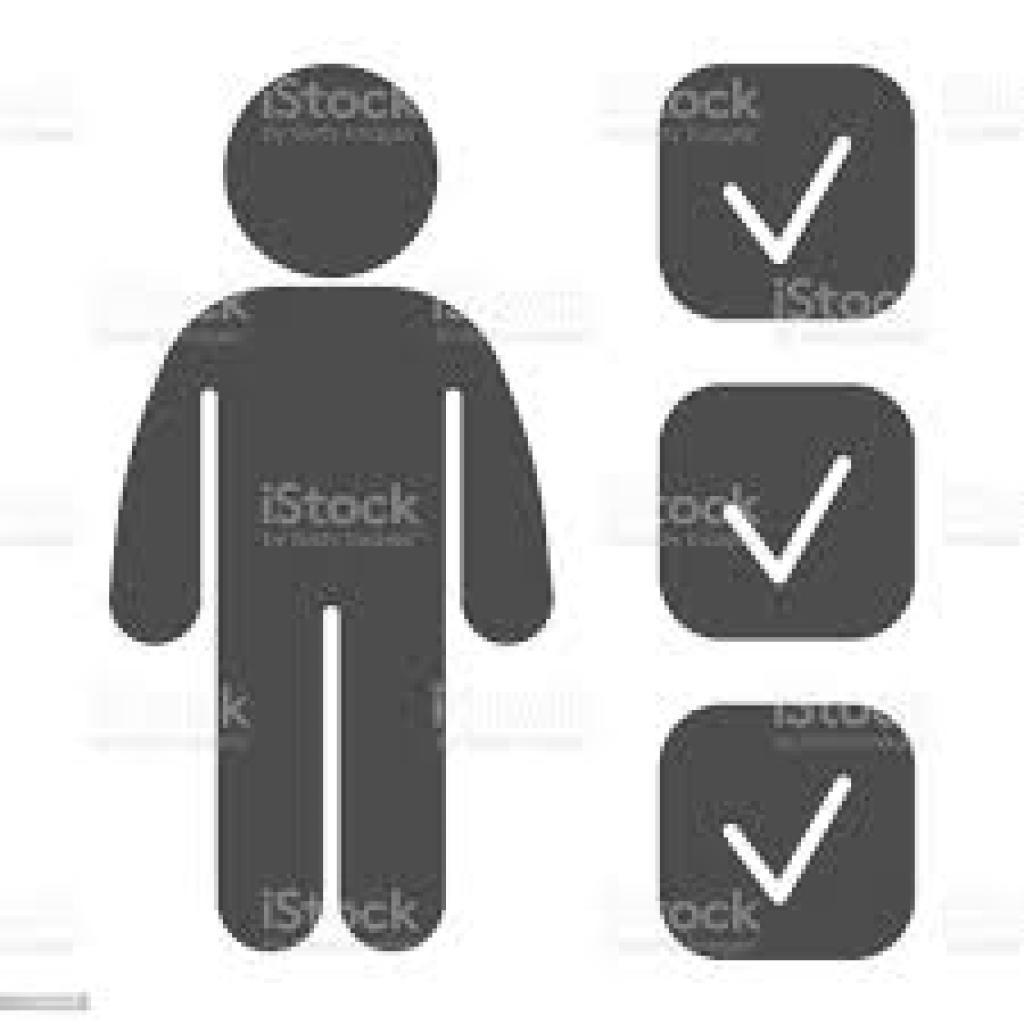checkbox: (664, 387, 917, 640), (663, 64, 914, 316), (662, 708, 914, 956)
